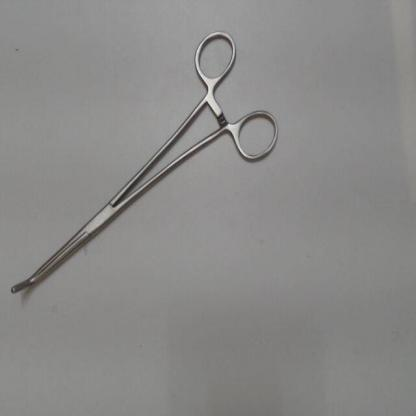Lahey Forceps: (5, 24, 282, 302)
